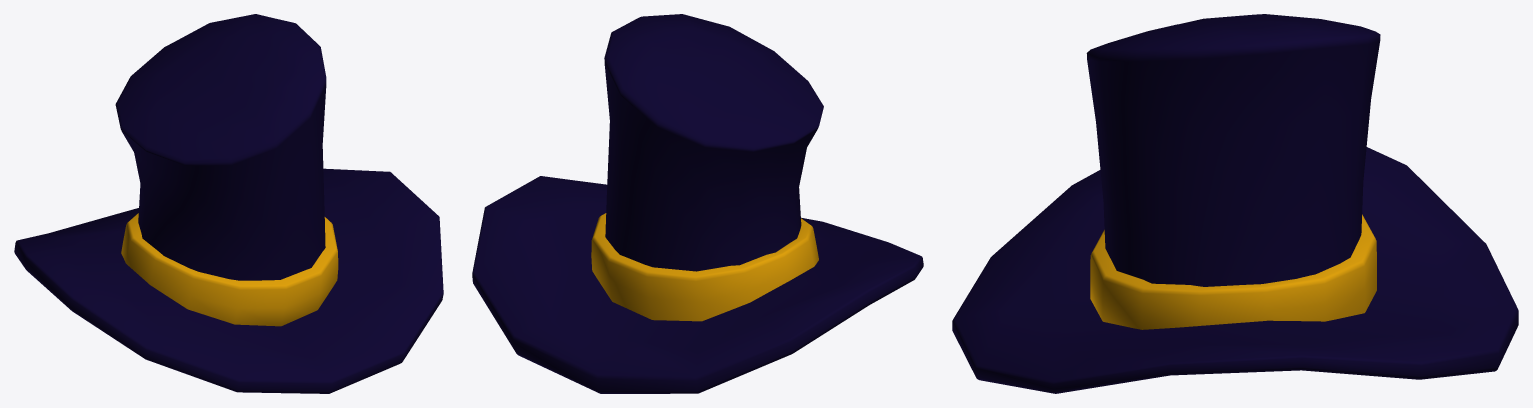
Rendered from props_hat.fbx.
The picture shows the model from 3 angles, left to right: view 1: azimuth 30°, elevation 25°; view 2: azimuth 150°, elevation 25°; view 3: azimuth 270°, elevation 25°; orthographic projection. The views are drawn at different scales.
Visible parts, largest first — view 1: hat.001; view 2: hat.001; view 3: hat.001.
Boxes of the visible parts, x1=… form: hat.001: x1=14, y1=14, x2=443, y2=393; hat.001: x1=472, y1=14, x2=923, y2=393; hat.001: x1=952, y1=14, x2=1518, y2=393.
Size of the model in its own units: 0.8084 by 0.8204 by 0.5511.
